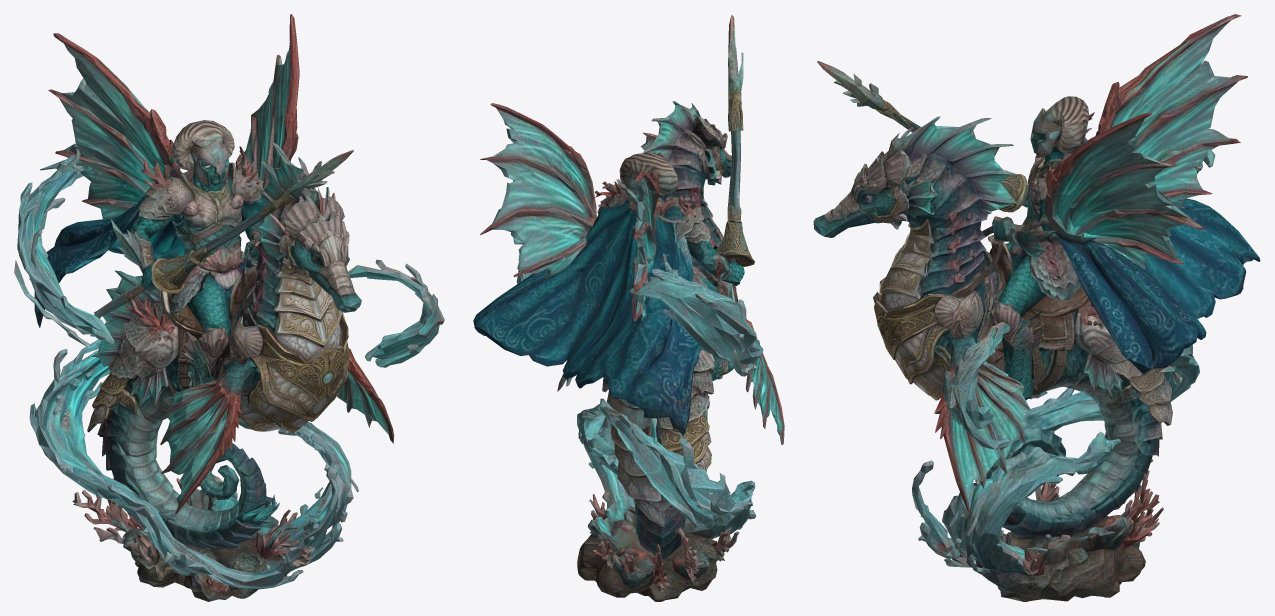
The model's file is model.opt.glb.
The picture shows the model from 3 angles, left to right: view 1: azimuth 30°, elevation 25°; view 2: azimuth 150°, elevation 25°; view 3: azimuth 270°, elevation 25°; orthographic projection. The views are drawn at different scales.
Parts seen in each view (by area): view 1: Mesh_0; view 2: Mesh_0; view 3: Mesh_0.
Boxes of the visible parts, bbox=[...] form: Mesh_0: bbox=[14, 14, 444, 601]; Mesh_0: bbox=[473, 14, 784, 601]; Mesh_0: bbox=[813, 14, 1260, 601].
Size of the model in its own units: 1.33 by 1.9 by 1.46.
Materials: 1 (1 with a texture image).
